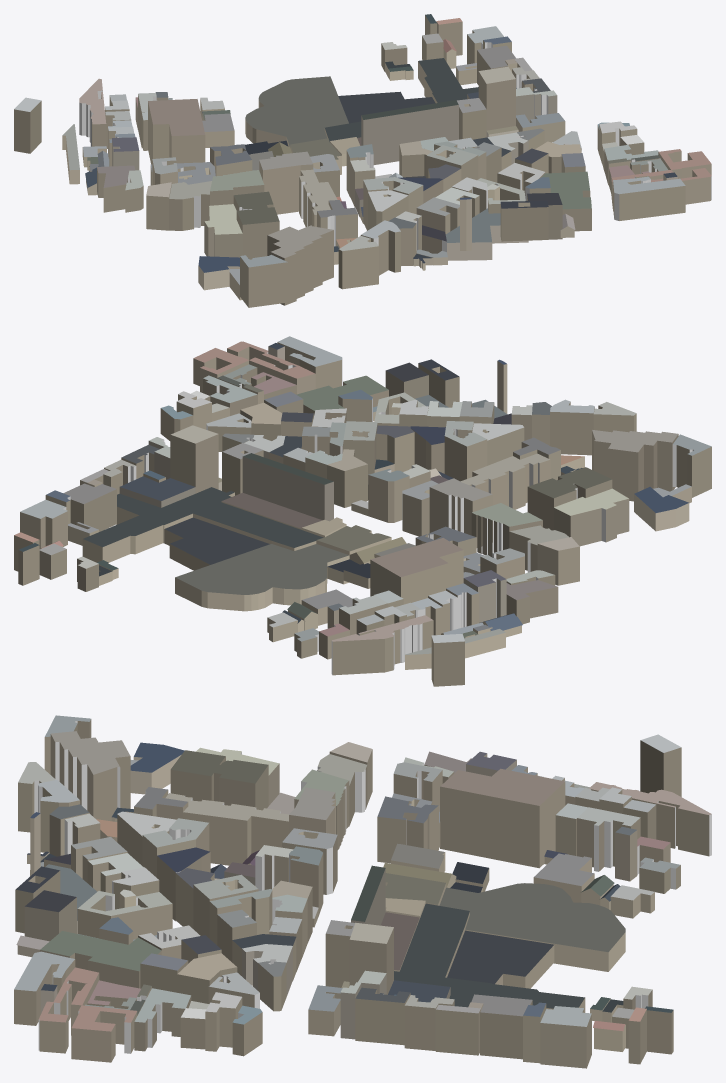
The picture shows the model from 3 angles, top to bottom: view 1: azimuth 30°, elevation 25°; view 2: azimuth 150°, elevation 25°; view 3: azimuth 270°, elevation 25°; orthographic projection. The views are drawn at different scales.
Parts seen in each view (by area): view 1: tuile; view 2: tuile; view 3: tuile.
Boxes of the visible parts, x1,y1,x2,y2 form: tuile: (14,14,711,307); tuile: (14,336,711,686); tuile: (14,715,711,1068).
Size of the model in its own units: 284 by 47.53 by 276.
